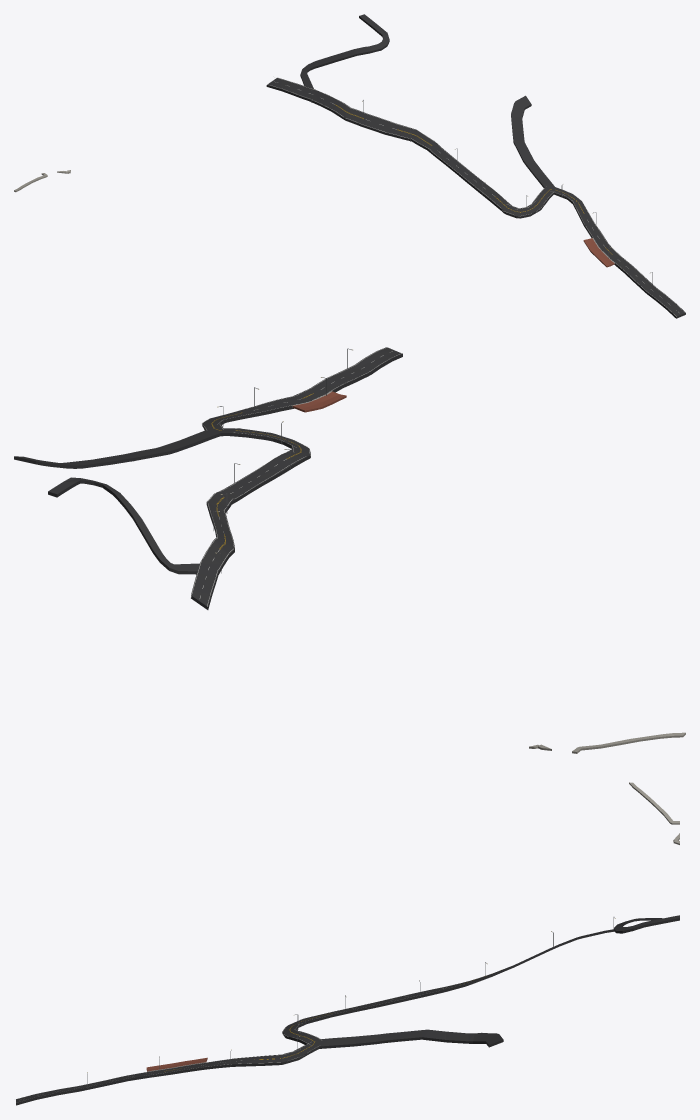
The model's file is 17-109460-59485.8bed50a9.glb.
3 renders of one model, top to bottom at view 1: azimuth 30°, elevation 25°; view 2: azimuth 150°, elevation 25°; view 3: azimuth 270°, elevation 25°, orthographic. The views are drawn at different scales.
Bounding box in the file's own units: 293 × 74.84 × 295.
